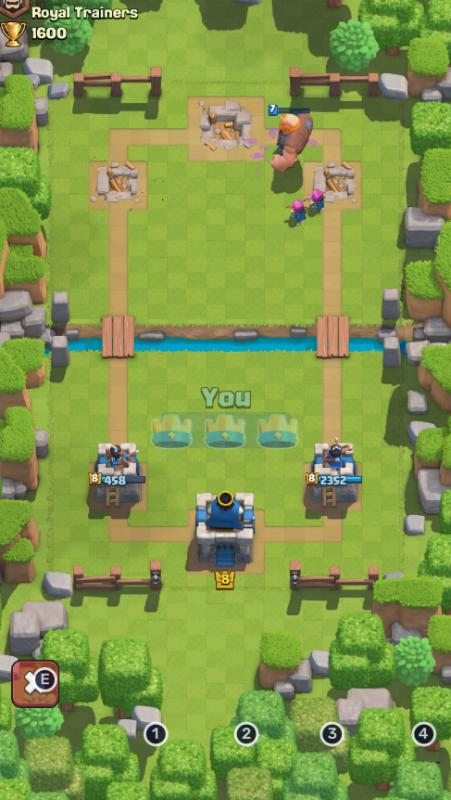archere: (302, 182, 335, 217), (283, 197, 312, 228)
geant: (260, 107, 321, 166)
